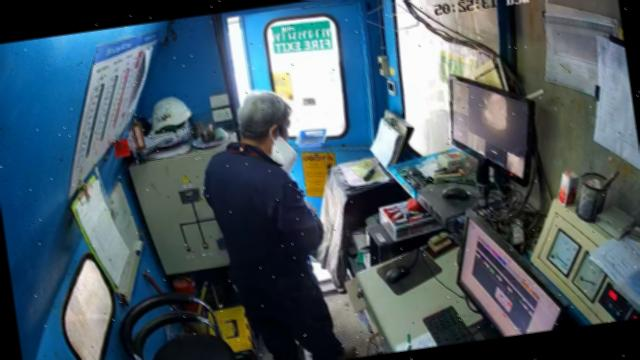Head: (237, 91, 292, 153)
People: (203, 93, 345, 359)
